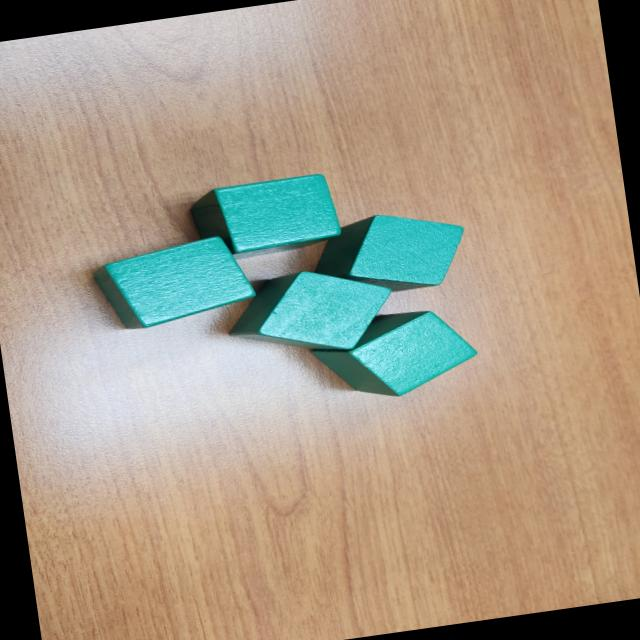green: (218, 258, 406, 368), (308, 302, 484, 409), (89, 232, 258, 336), (306, 202, 472, 304), (186, 172, 345, 266)
